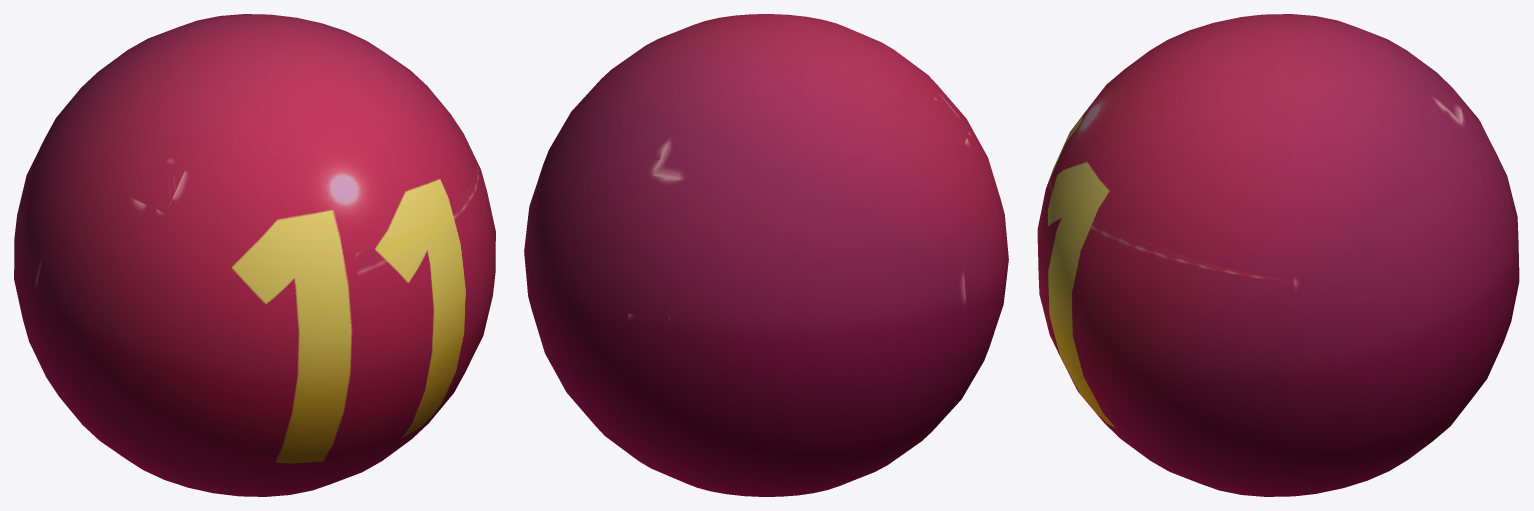
File: Enemy 11.fbx
3 renders of one model, left to right at view 1: azimuth 30°, elevation 25°; view 2: azimuth 150°, elevation 25°; view 3: azimuth 270°, elevation 25°, orthographic.
Parts seen in each view (by area): view 1: Body 1.010; view 2: Body 1.010; view 3: Body 1.010.
Part boxes in pixels (x1,y1,x2,y2): Body 1.010: [14, 14, 495, 496]; Body 1.010: [524, 14, 1008, 496]; Body 1.010: [1037, 14, 1519, 496].
Size of the model in its own units: 472 by 474 by 472.
1 material, 1 textured.
